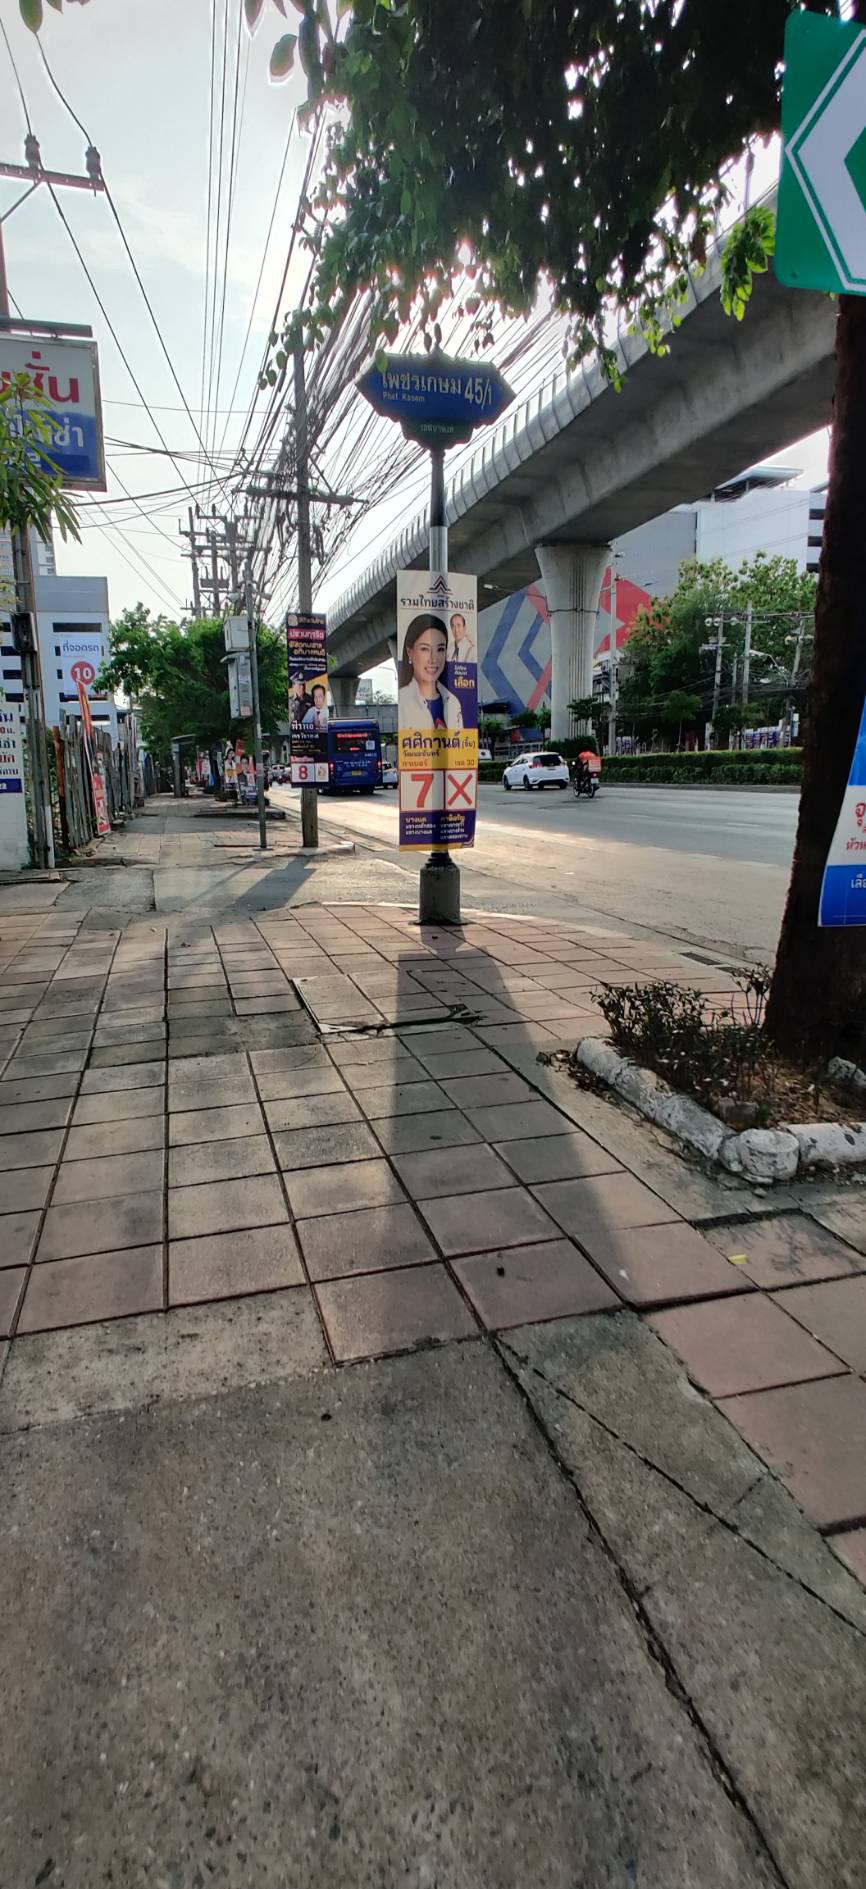Banner: (394, 573, 501, 852), (284, 608, 328, 788)
